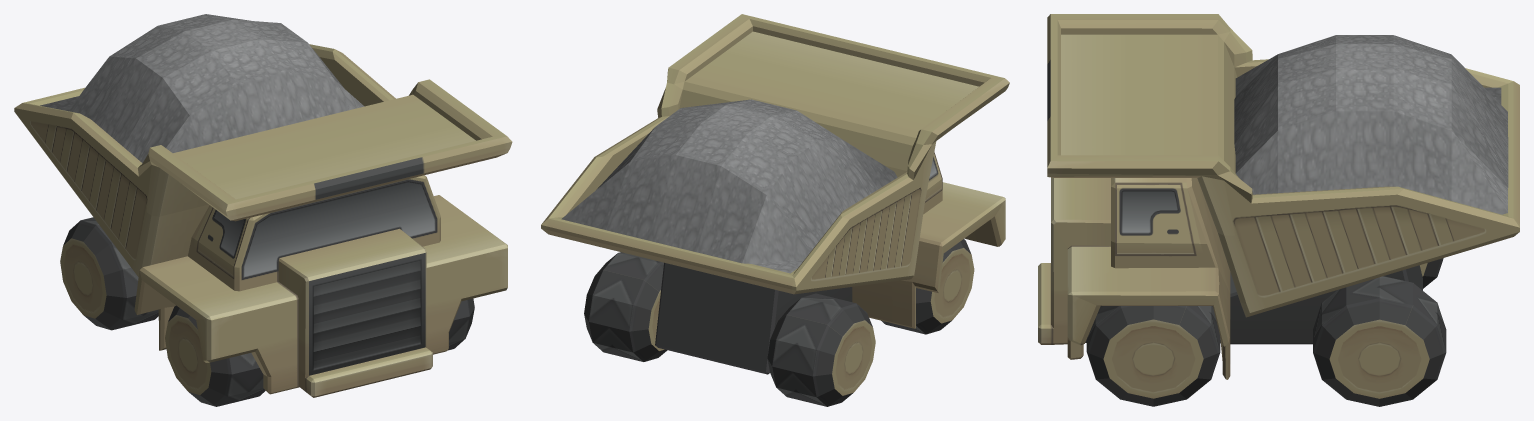
File: Haultruck.fbx
The picture shows the model from 3 angles, left to right: view 1: azimuth 30°, elevation 25°; view 2: azimuth 150°, elevation 25°; view 3: azimuth 270°, elevation 25°; orthographic projection. The views are drawn at different scales.
Visible parts, largest first — view 1: HtruckBadan, HtruckBak, HTruckIsi, HtruckBanBR, HtruckBanR, HtruckBanL; view 2: HtruckBak, HTruckIsi, HtruckBadan, HtruckBanBR, HtruckBanBL, HtruckBanR; view 3: HtruckBak, HTruckIsi, HtruckBadan, HtruckBanBL, HtruckBanL.
Part boxes in pixels (<box>): HtruckBadan: <box>134,175,507,397</box>; HtruckBak: <box>14,44,512,276</box>; HTruckIsi: <box>40,14,364,162</box>; HtruckBanBR: <box>60,217,158,330</box>; HtruckBanR: <box>165,305,265,406</box>; HtruckBanL: <box>448,298,474,350</box>; HtruckBak: <box>541,14,1009,294</box>; HTruckIsi: <box>561,99,897,273</box>; HtruckBadan: <box>655,152,1005,374</box>; HtruckBanBR: <box>767,293,875,406</box>; HtruckBanBL: <box>584,252,667,361</box>; HtruckBanR: <box>881,239,974,334</box>; HtruckBak: <box>1047,14,1519,317</box>; HTruckIsi: <box>1234,35,1508,214</box>; HtruckBadan: <box>1038,177,1422,379</box>; HtruckBanBL: <box>1313,276,1446,406</box>; HtruckBanL: <box>1086,305,1220,406</box>.
Size of the model in its own units: 209 by 176 by 268.
